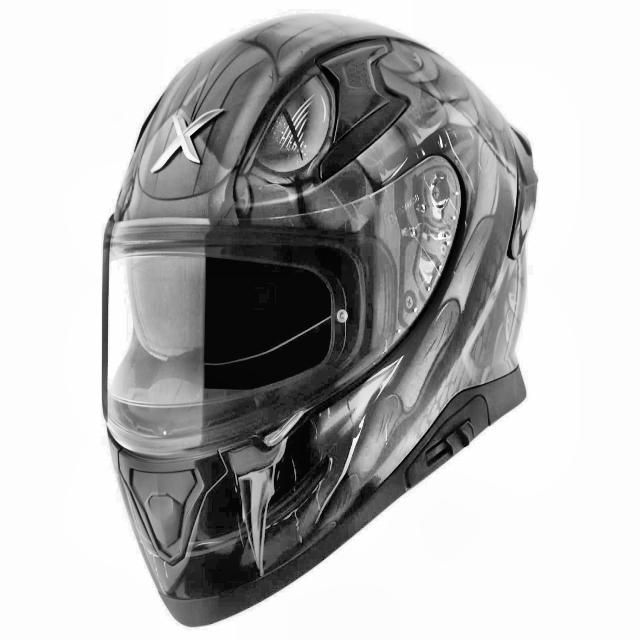Helmet: (100, 11, 548, 628)
